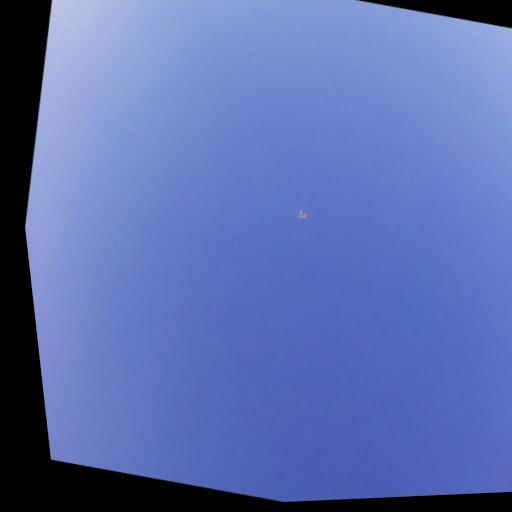drones: (294, 205, 313, 224)
